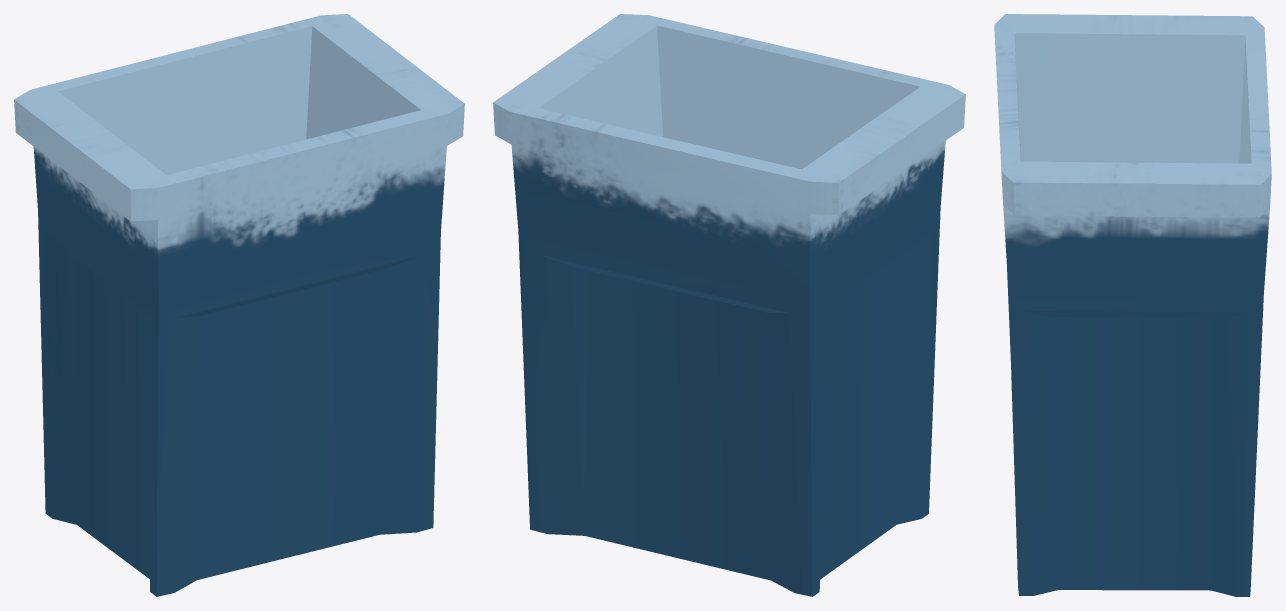
File: bin.glb
3 renders of one model, left to right at view 1: azimuth 30°, elevation 25°; view 2: azimuth 150°, elevation 25°; view 3: azimuth 270°, elevation 25°, orthographic. The views are drawn at different scales.
Visible parts, largest first — view 1: Cube.017; view 2: Cube.017; view 3: Cube.017.
Boxes of the visible parts, box(x1,y1,x2,y2) form: Cube.017: box(14, 14, 464, 596); Cube.017: box(493, 14, 965, 596); Cube.017: box(994, 14, 1271, 596).
Bounding box in the file's own units: 1.43 × 1.67 × 0.9811.
1 material, 1 textured.
